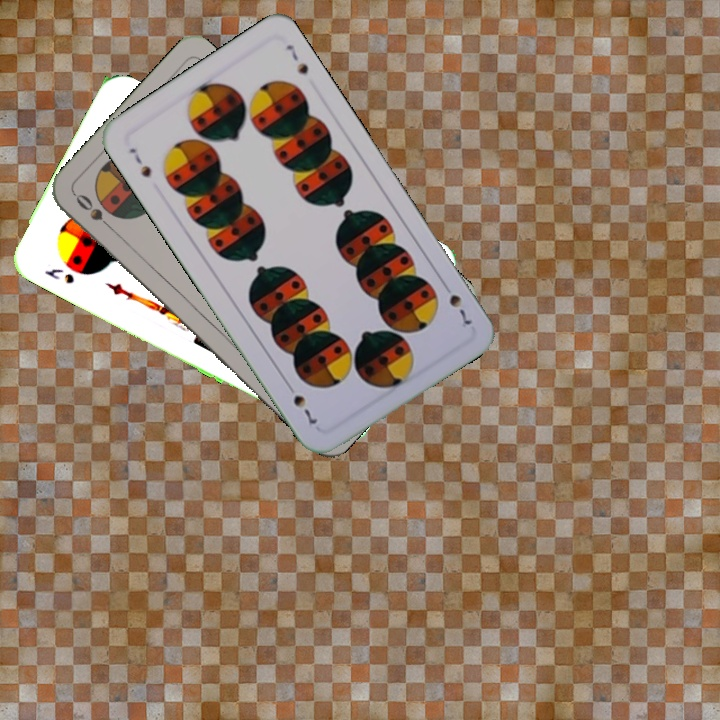S7: (438, 277, 475, 330), (125, 143, 154, 180)
SK: (40, 264, 77, 287)
SO: (71, 189, 118, 235)
